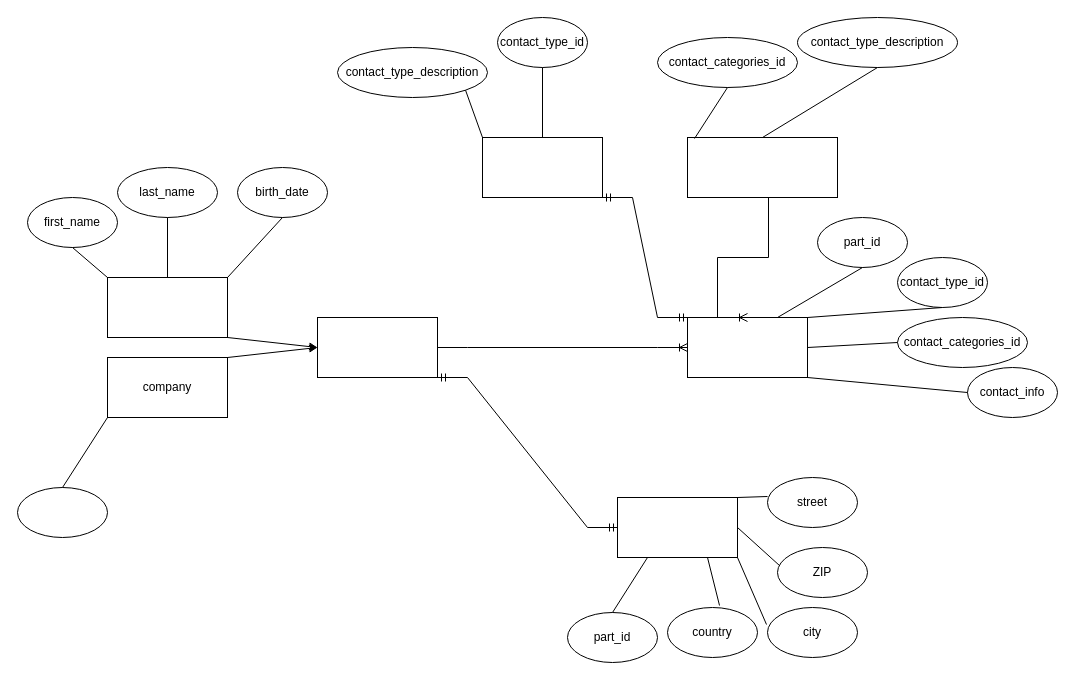
Some shapes in this 1075 by 680 pixel diagram are drawn without their labels. Here are the shapes that lost their labels. From the top down, the centre of each, then its label:
(542,167): contact_type
(762,167): contact_categories_type
(167,307): person
(377,347): part
(747,347): digital_contact
(62,512): company_name
(677,527): adress
